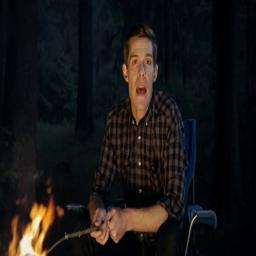fire: (9, 199, 63, 256)
